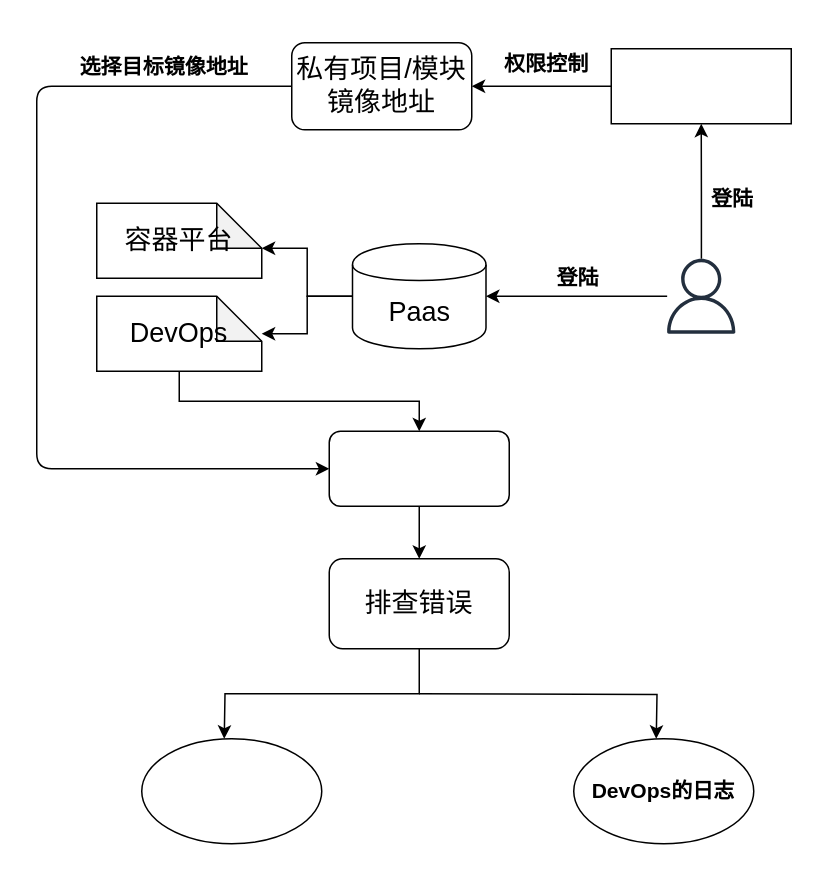
This 818x870 diagram has some shape labels left out. Here are the shapes that lost their labels. From the top down, the box of each, then its label:
(610, 47, 791, 124): Harbor
(328, 430, 509, 506): 创建应用
(140, 737, 322, 844): 容器平台的事件/日志
